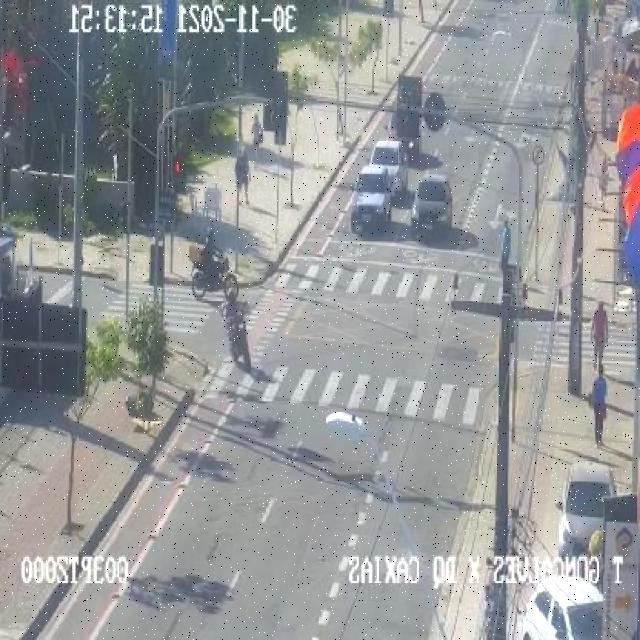Car: (516, 573, 605, 639), (559, 463, 615, 556), (351, 164, 400, 233), (410, 175, 454, 237), (365, 139, 410, 197)
Cycle: (187, 245, 244, 304), (226, 317, 256, 375)
